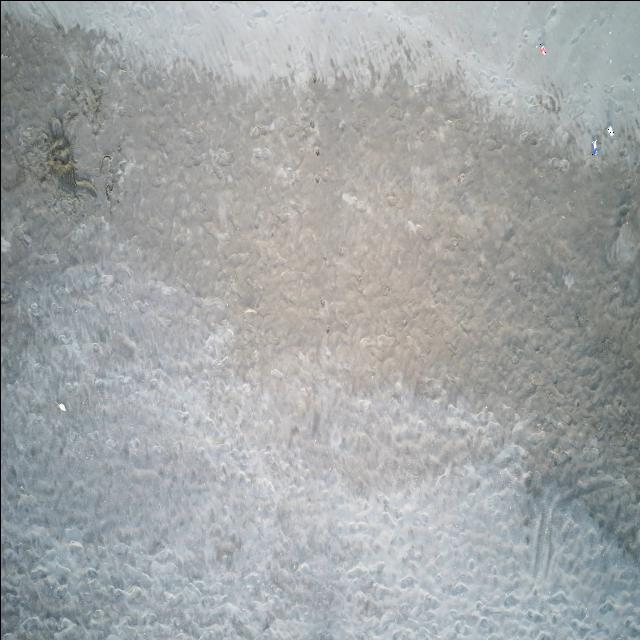Garbage: (537, 43, 547, 55), (607, 125, 613, 136), (592, 140, 596, 155), (57, 403, 64, 411)
